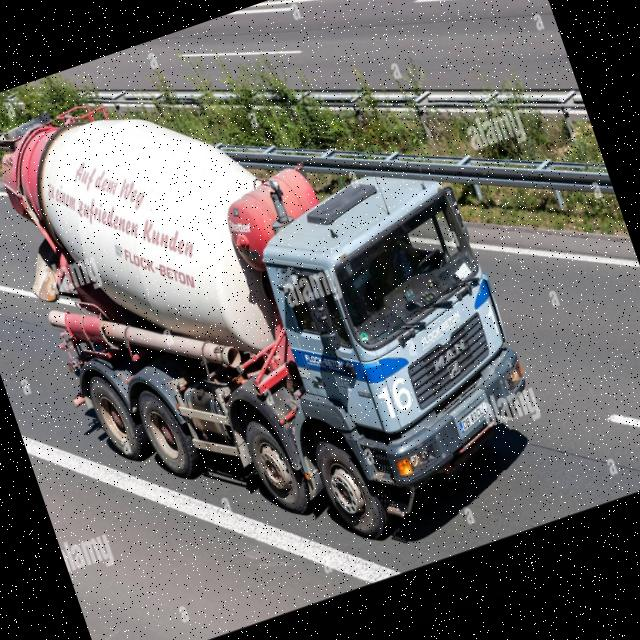Mixer Truck: (0, 4, 558, 619)
